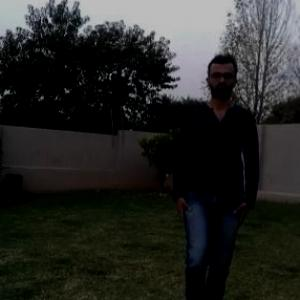follow: (177, 54, 255, 299)
